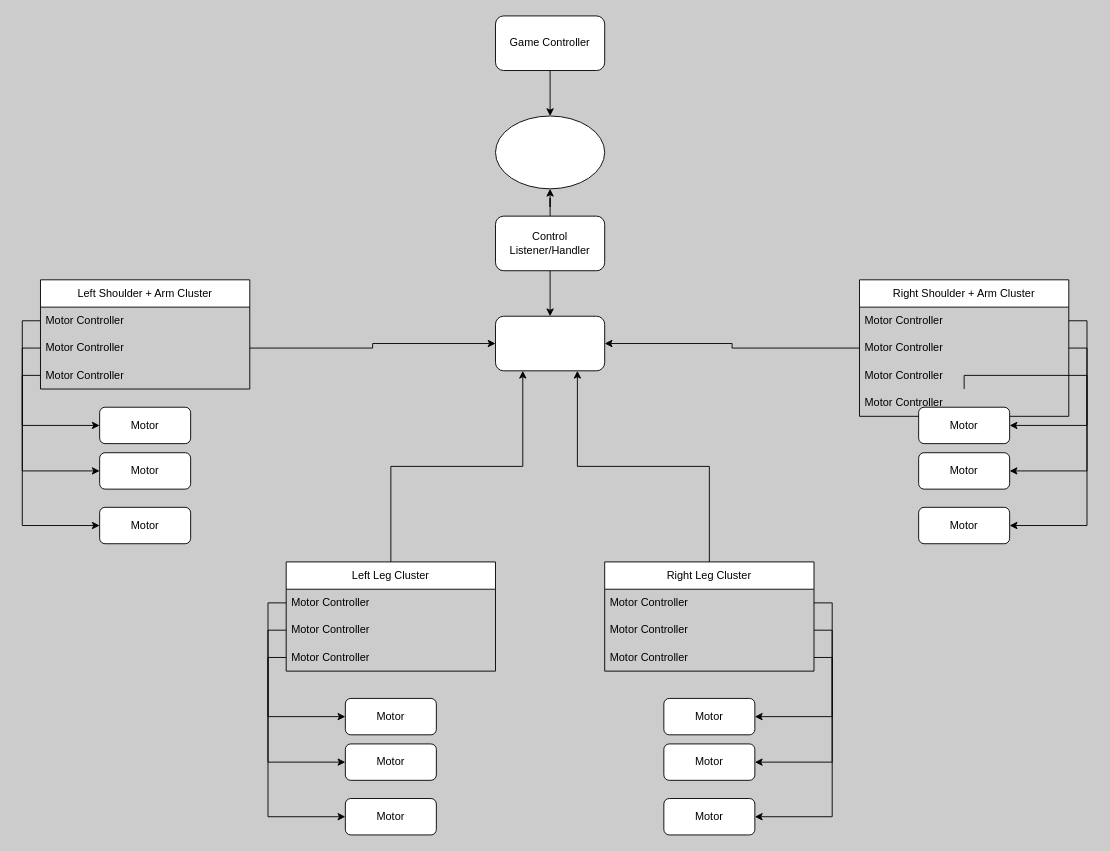
This 1110x851 diagram has some shape labels left out. The centre of each missing label's shape, as x and y in pixels:
"Controller Meta Data Topic" belongs at (550,343).
"Joy Topic" belongs at (550,152).
